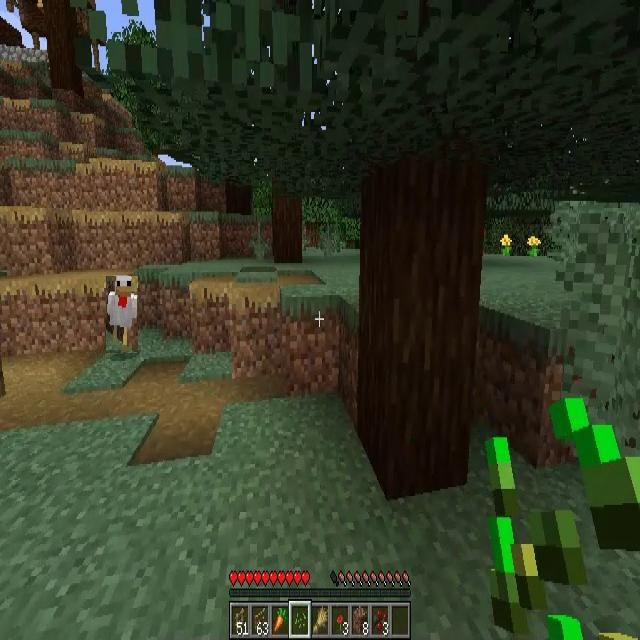duck: (106, 276, 138, 353)
flower: (527, 235, 540, 257), (500, 235, 512, 253)
